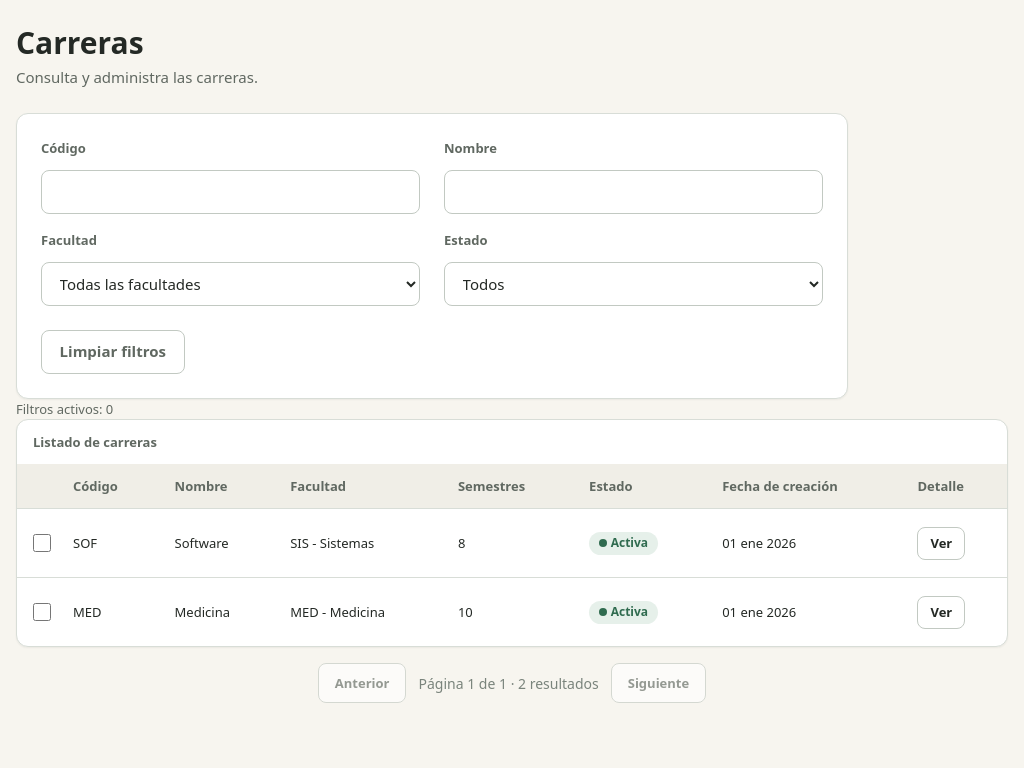
Test: ListadoCarrerasComponent › no muestra acciones no permitidas en la barra contextual
The width and height of the screenshot is (1024, 768).
What coordinates should you click on to do the following:
click the cell "SOF"
I would click on:
 (108, 544)
Its box is top-left (57, 509), bottom-right (159, 578).
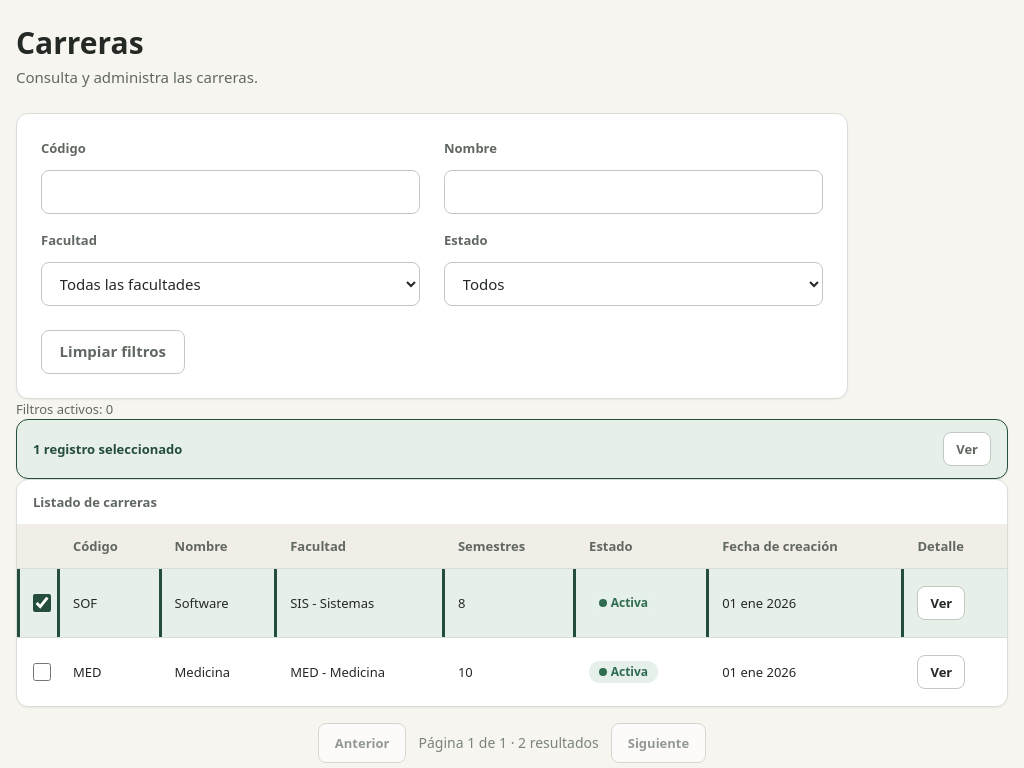
Now the button "Ver" is shown, box top-left (943, 432), bottom-right (991, 466)
